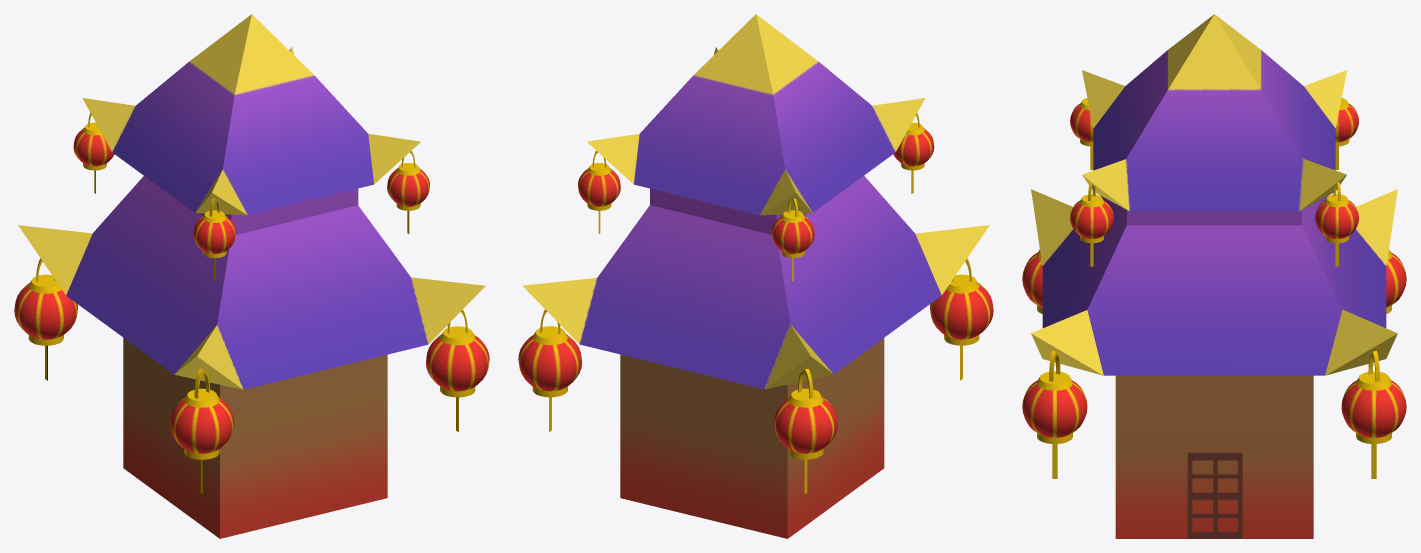
Rendered from house 2.fbx.
3 views of the same model, side by side, from view 1: azimuth 30°, elevation 25°; view 2: azimuth 150°, elevation 25°; view 3: azimuth 270°, elevation 25° (orthographic). The views are drawn at different scales.
Visible parts, largest first — view 1: Circle.002; view 2: Circle.002; view 3: Circle.002.
Part boxes in pixels (x1,y1,x2,y2): Circle.002: (14, 14, 489, 538); Circle.002: (518, 14, 993, 538); Circle.002: (1022, 14, 1406, 538).
Size of the model in its own units: 584 by 845 by 611.
